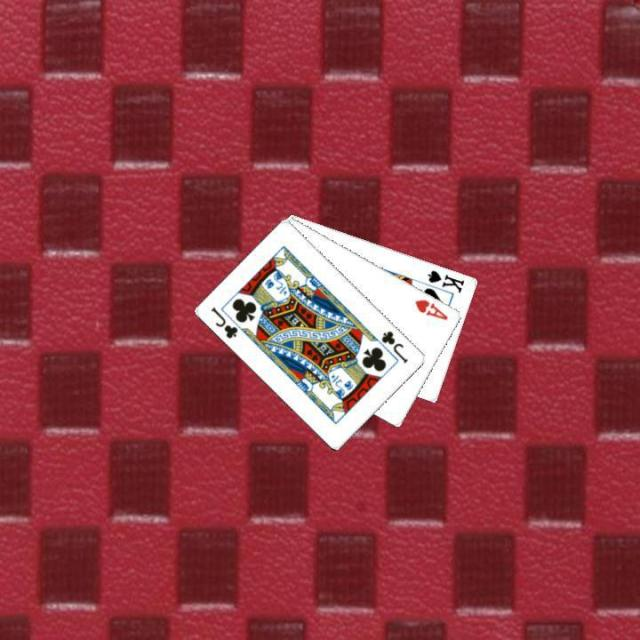AH: (410, 295, 450, 322)
JC: (207, 303, 240, 341), (378, 327, 410, 365)
KS: (424, 266, 467, 294)
